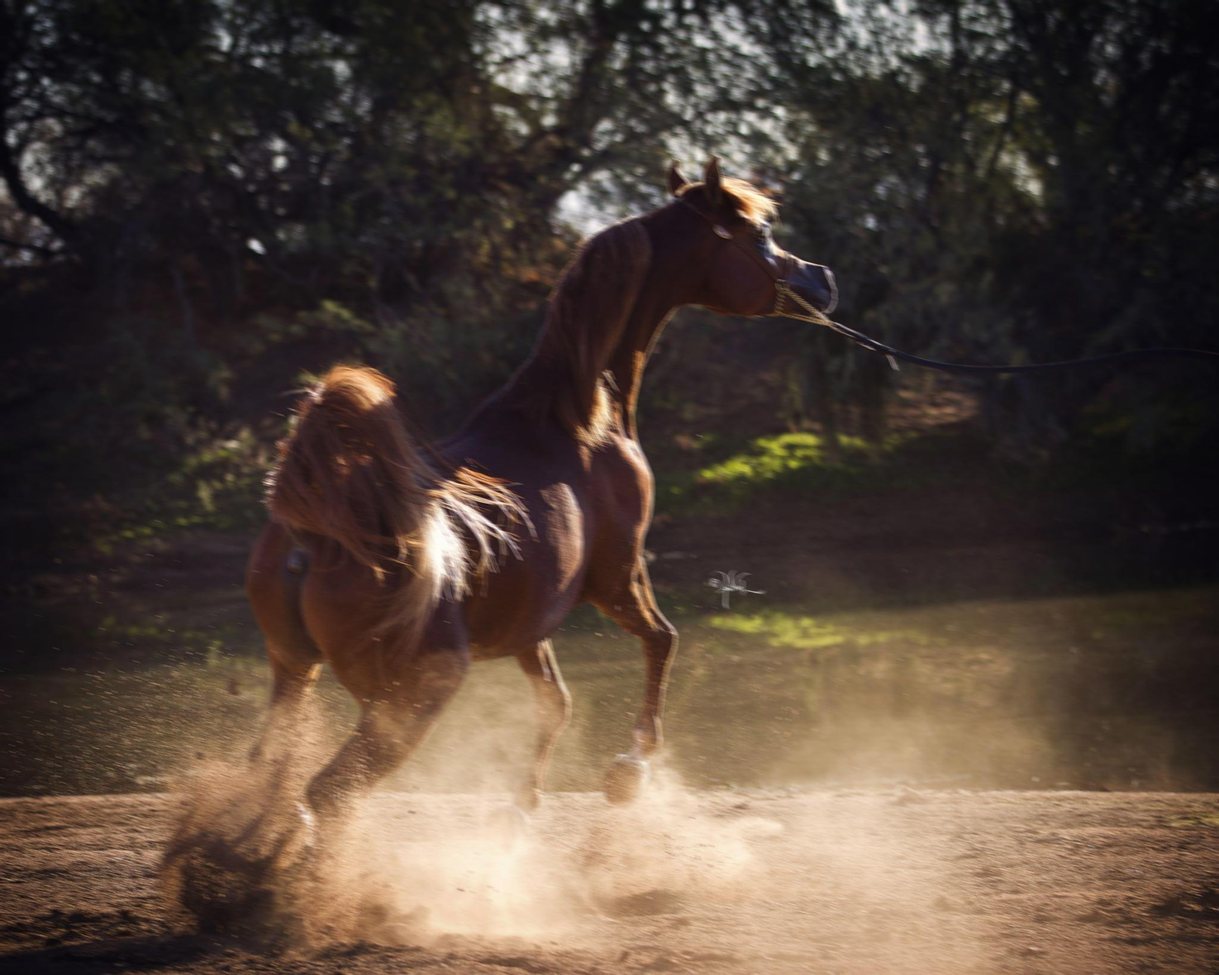horse: (233, 154, 836, 877)
